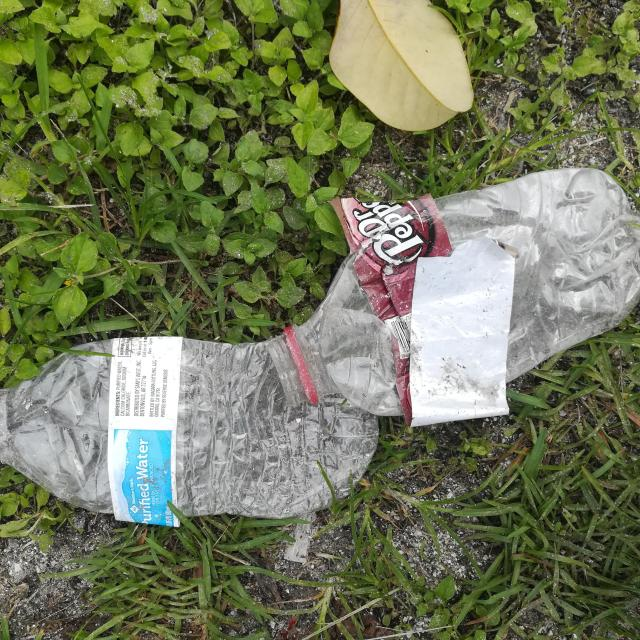litter: (265, 168, 640, 428), (0, 337, 379, 526)
